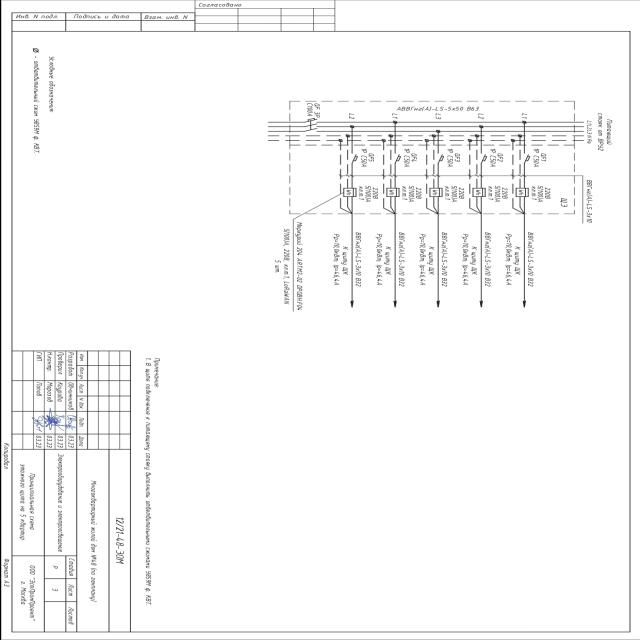-: (268, 220, 304, 312), (442, 185, 464, 202), (356, 185, 378, 202), (530, 185, 552, 202), (400, 185, 422, 202), (485, 185, 507, 202), (305, 102, 321, 119), (400, 148, 410, 168), (358, 148, 368, 168), (444, 148, 452, 168), (532, 148, 540, 168), (488, 149, 496, 169), (558, 198, 568, 208)
QF: (304, 118, 320, 132), (520, 149, 530, 163), (478, 150, 488, 164), (434, 150, 444, 164), (392, 150, 402, 164), (348, 150, 358, 164)
WH: (470, 187, 485, 197), (428, 188, 443, 198), (384, 188, 399, 198), (514, 188, 529, 198), (341, 187, 356, 197)
